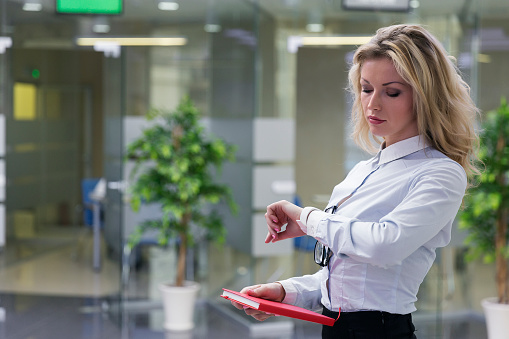em pe: (235, 33, 478, 339)
